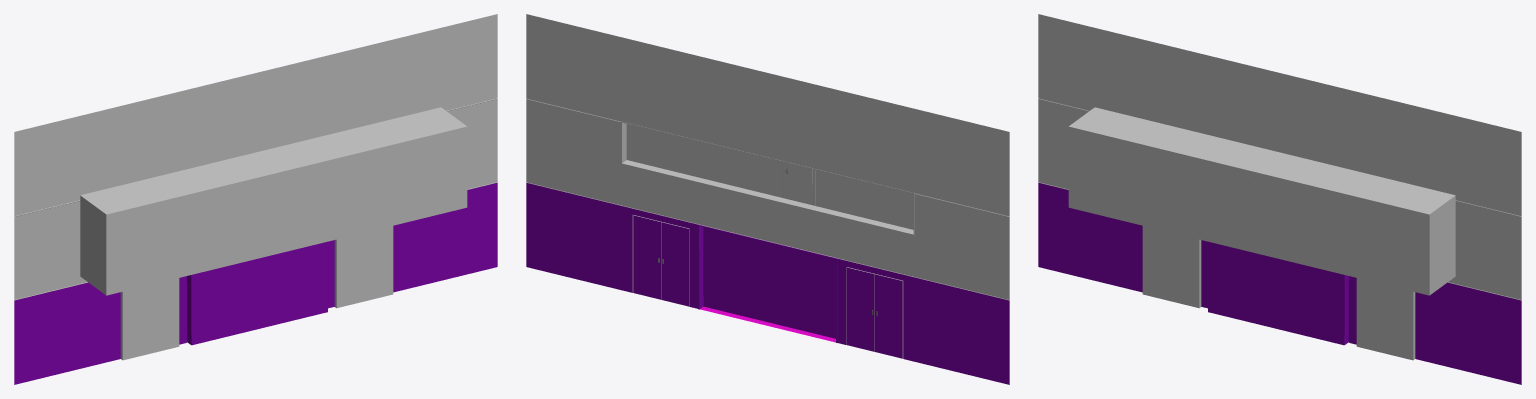
Rendered from mesh_wall_01.FBX.
The picture shows the model from 3 angles, left to right: view 1: azimuth 30°, elevation 25°; view 2: azimuth 150°, elevation 25°; view 3: azimuth 330°, elevation 25°; orthographic projection.
Visible parts, largest first — view 1: mesh_wall_01; view 2: mesh_wall_01; view 3: mesh_wall_01.
Part boxes in pixels (bbox=[...]): mesh_wall_01: bbox=[14, 14, 497, 384]; mesh_wall_01: bbox=[526, 14, 1009, 384]; mesh_wall_01: bbox=[1038, 14, 1521, 384].
Size of the model in its own units: 18 by 9 by 2.02.
